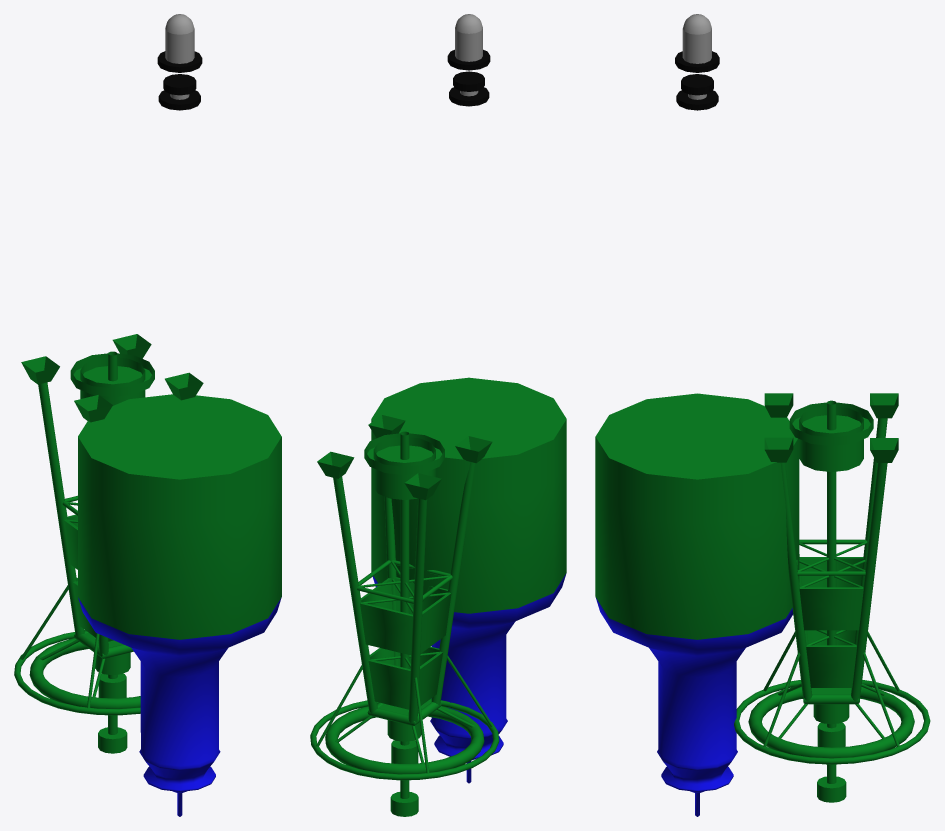
File: BuoyGreen_.FBX
The picture shows the model from 3 angles, left to right: view 1: azimuth 30°, elevation 25°; view 2: azimuth 150°, elevation 25°; view 3: azimuth 270°, elevation 25°; orthographic projection. The views are drawn at different scales.
Visible parts, largest first — view 1: Buoy, Tower, Light_2; view 2: Buoy, Tower, Light_2; view 3: Buoy, Tower, Light_2.
Boxes of the visible parts, left/top/right/bottom form: Buoy: left=78, top=394, right=281, bottom=816; Tower: left=14, top=334, right=203, bottom=753; Light_2: left=157, top=14, right=202, bottom=110; Buoy: left=371, top=377, right=566, bottom=783; Tower: left=310, top=415, right=499, bottom=816; Light_2: left=447, top=14, right=490, bottom=106; Buoy: left=595, top=393, right=799, bottom=816; Tower: left=734, top=393, right=930, bottom=802; Light_2: left=675, top=14, right=719, bottom=110.
Bounding box in the file's own units: 3.2 × 13.87 × 5.25.
